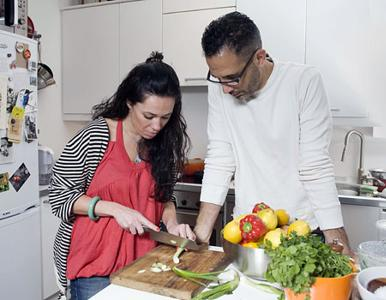person: (48, 53, 200, 300)
